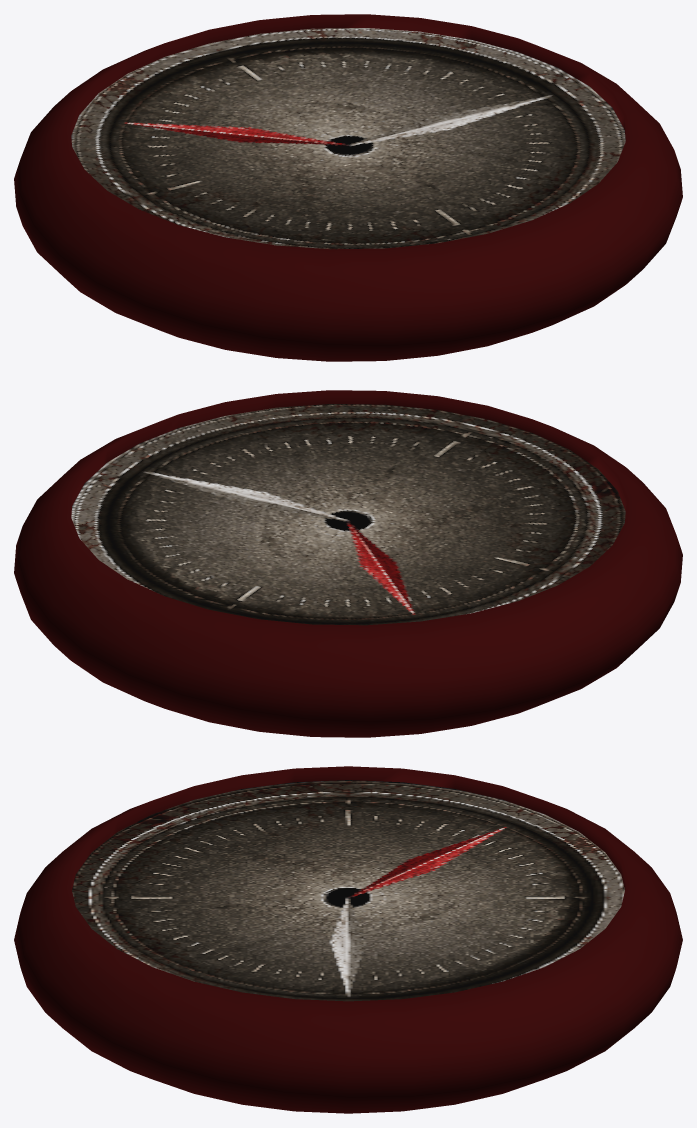
File: コンパス.fbx
3 views of the same model, one above another, from view 1: azimuth 30°, elevation 25°; view 2: azimuth 150°, elevation 25°; view 3: azimuth 270°, elevation 25° (orthographic).
Visible parts, largest first — view 1: 円柱, 球; view 2: 円柱, 球; view 3: 円柱, 球.
Boxes of the visible parts, box(x1,y1,x2,y2) form: 円柱: box(71, 28, 625, 249); 球: box(14, 14, 682, 361); 円柱: box(71, 404, 625, 625); 球: box(14, 390, 682, 737); 円柱: box(72, 780, 624, 1001); 球: box(14, 766, 682, 1113).
Size of the model in its own units: 0.3 by 0.0778 by 0.3.
2 materials, 1 textured.
